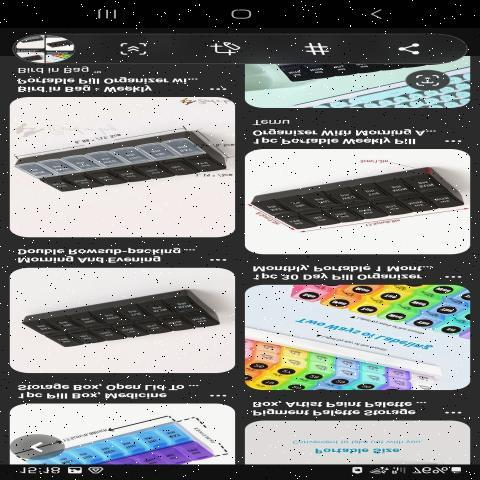PillBox: (12, 114, 230, 221), (249, 161, 468, 248), (17, 280, 227, 365)
